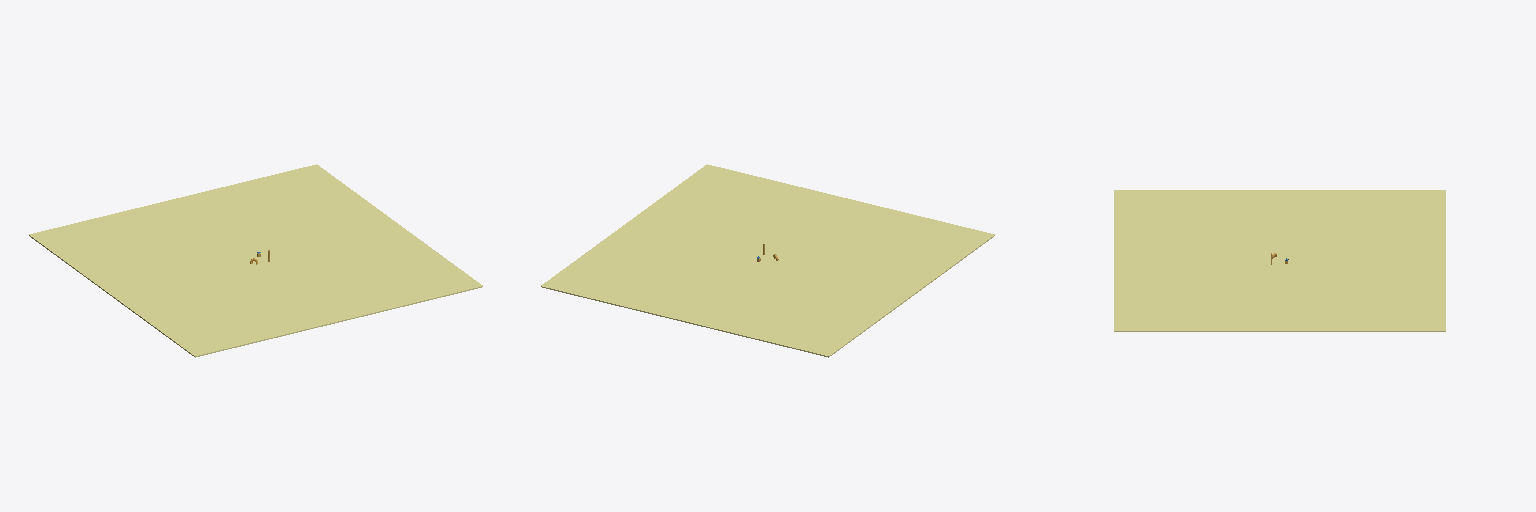
Rendered from stuff.obj.
3 renders of one model, left to right at view 1: azimuth 30°, elevation 25°; view 2: azimuth 150°, elevation 25°; view 3: azimuth 270°, elevation 25°, orthographic.
Parts seen in each view (by area): view 1: Grid; view 2: Grid; view 3: Grid.
Boxes of the visible parts, x1=… form: Grid: x1=29, y1=164, x2=482, y2=357; Grid: x1=541, y1=164, x2=994, y2=357; Grid: x1=1114, y1=190, x2=1445, y2=331.
Size of the model in its own units: 375 by 16.66 by 375.